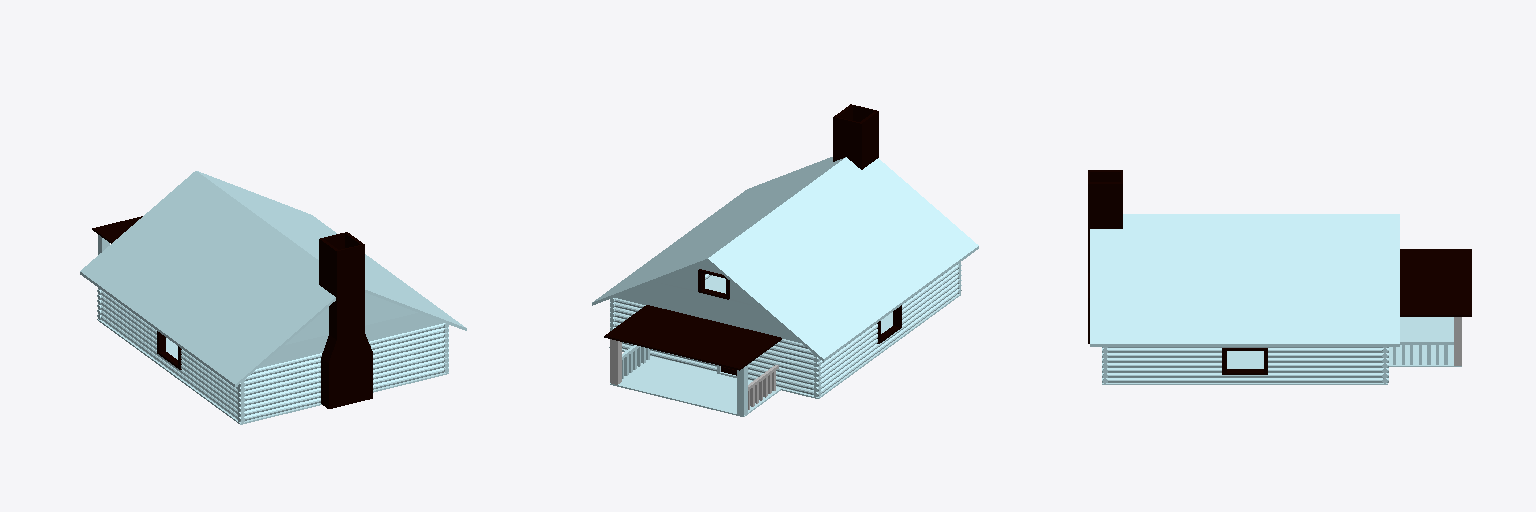
The model's file is casa.obj.
3 views of the same model, side by side, from view 1: azimuth 30°, elevation 25°; view 2: azimuth 150°, elevation 25°; view 3: azimuth 270°, elevation 25° (orthographic).
Visible parts, largest first — view 1: Plane.001_Plane.005, Cube.010_Cube.016, Cylinder.002, Cylinder.001, Cube.002_Cube.003, Plane, Cube.009_Cube.013; view 2: Plane.001_Plane.005, Cube.009_Cube.013, Plane, Cube.001_Cube.002, Cylinder.001, Cube.010_Cube.016, Cylinder.004, Cylinder.003_Cylinder.005, Cube.007_Cube.020; view 3: Plane.001_Plane.005, Cylinder, Cube.009_Cube.013, Plane, Cube.010_Cube.016, Plane.006_Plane.010.
Boxes of the visible parts, box(x1,y1,x2,y2) form: Plane.001_Plane.005: box(80, 171, 466, 387); Cube.010_Cube.016: box(319, 232, 372, 408); Cylinder.002: box(237, 323, 448, 421); Cylinder.001: box(97, 289, 244, 422); Cube.002_Cube.003: box(258, 293, 443, 368); Plane: box(97, 319, 448, 424); Cube.009_Cube.013: box(92, 216, 142, 243); Plane.001_Plane.005: box(592, 157, 978, 361); Cube.009_Cube.013: box(604, 305, 781, 370); Plane: box(609, 275, 960, 416); Cube.001_Cube.002: box(614, 262, 800, 342); Cylinder.001: box(813, 264, 961, 396); Cube.010_Cube.016: box(833, 104, 878, 169); Cylinder.004: box(748, 339, 820, 396); Cylinder.003_Cylinder.005: box(610, 298, 716, 371); Cube.007_Cube.020: box(748, 371, 775, 409); Plane.001_Plane.005: box(1090, 214, 1399, 346); Cylinder: box(1102, 347, 1388, 382); Cube.009_Cube.013: box(1400, 249, 1471, 316); Plane: box(1102, 317, 1461, 384); Cube.010_Cube.016: box(1088, 170, 1122, 343); Plane.006_Plane.010: box(1222, 348, 1267, 374).
Bounding box in the file's own units: 6.37 × 4.12 × 9.14.